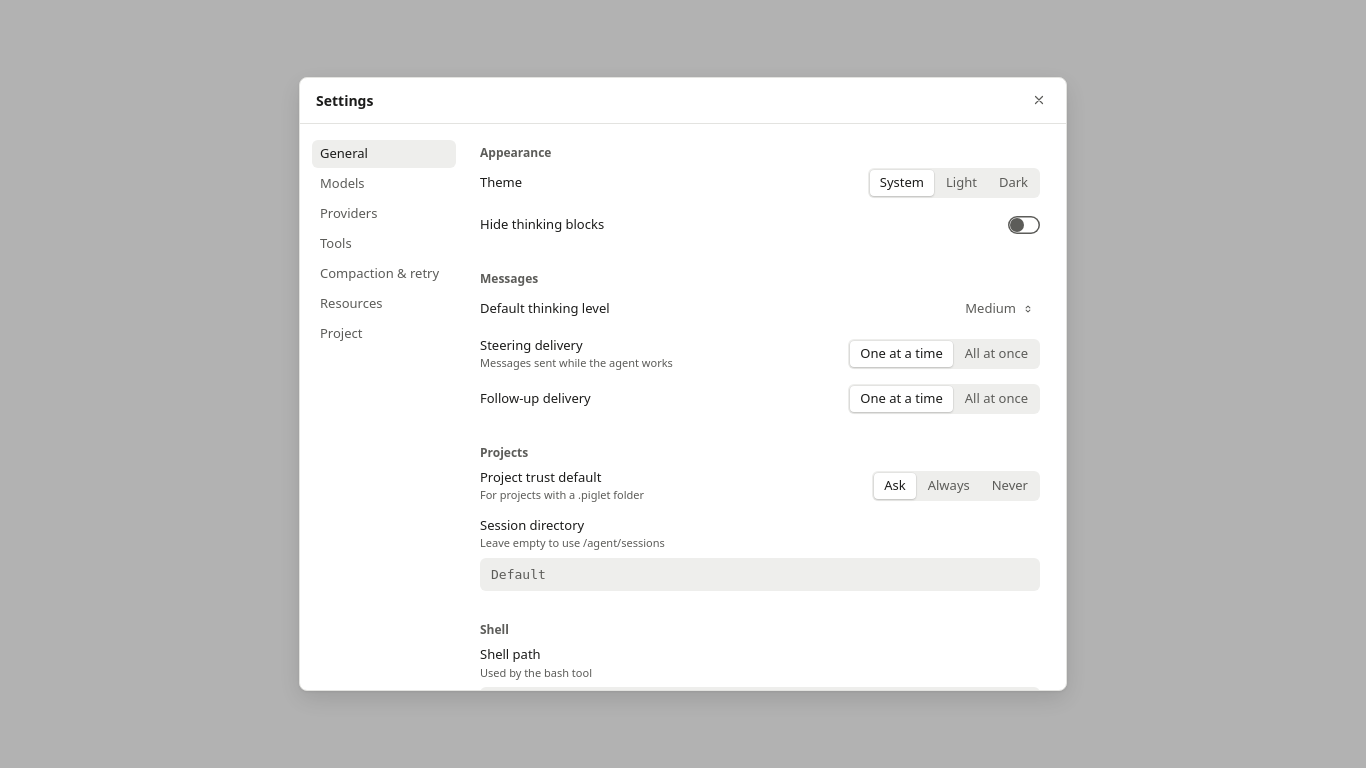
Scenario: Settings controls › shows the saved value again and says why when a save fails
Click the switch named "Hide thinking blocks" at (1024, 225), box left=1008, top=216, right=1040, bottom=234
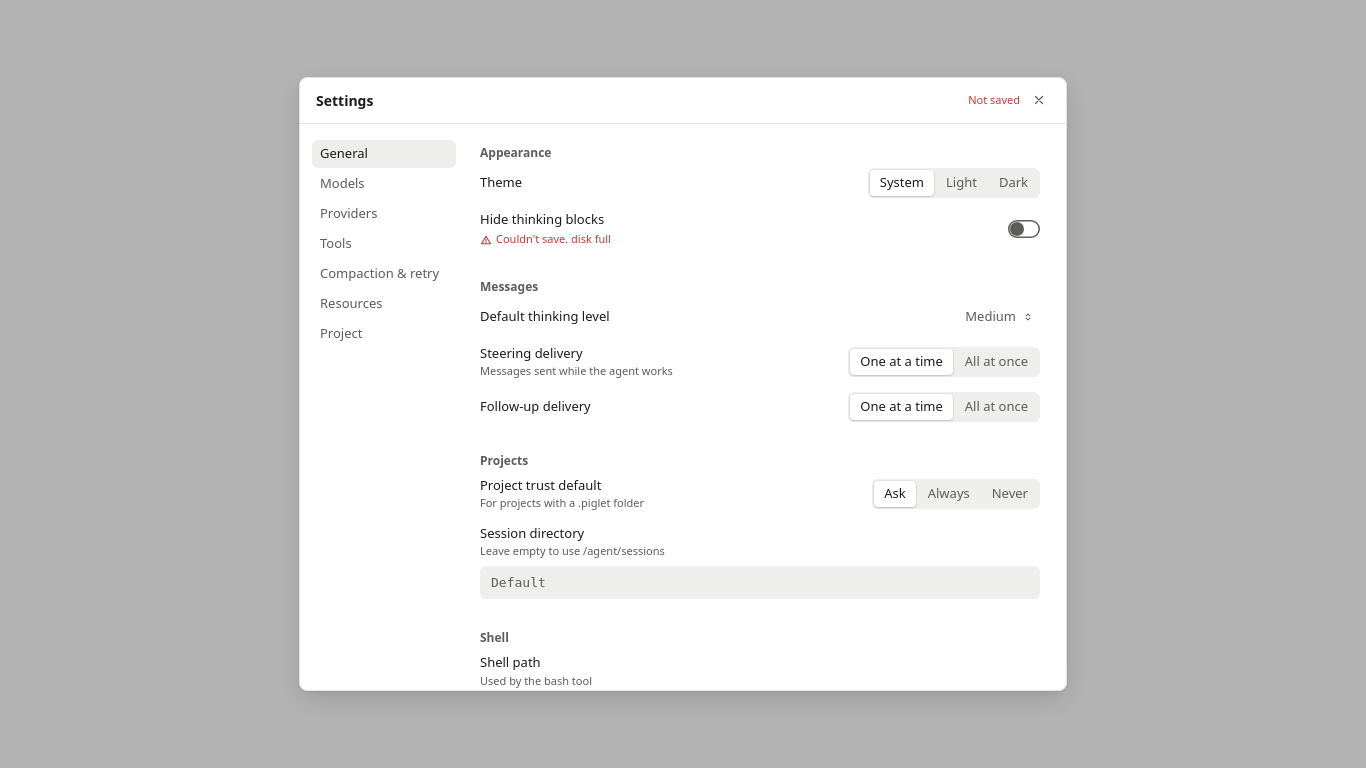
Result: the message "Couldn't save. disk full" is shown at left=480, top=231, right=611, bottom=246
Result: the text "Not saved" is shown at left=968, top=92, right=1020, bottom=108
